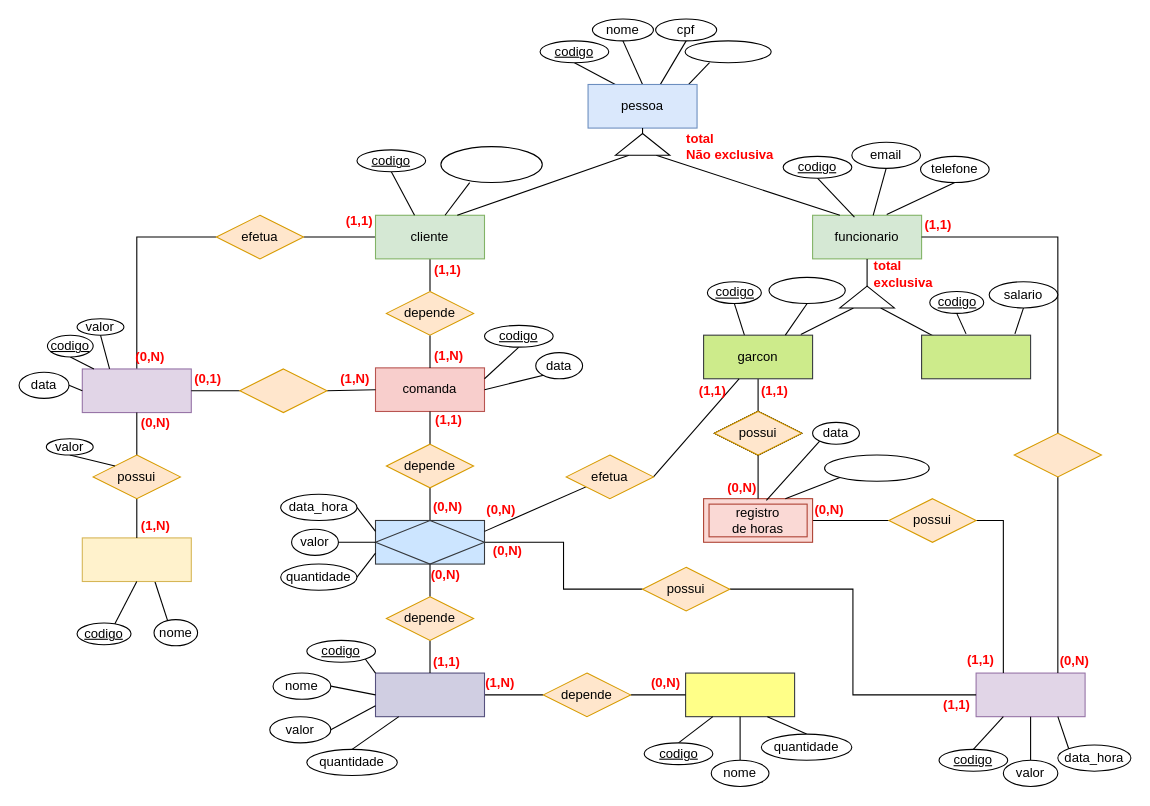
The diagram is 1150 pixels wide and 806 high, and some of its shapes have lost their labels. The shapes that lost their labels are listed below. From the top down, each one's box as (x1, y1, x2, y2) in pixels, then its label:
(684, 40, 771, 63): data_nasc
(440, 146, 542, 183): data_cadastro
(768, 276, 845, 304): valor_hora
(921, 334, 1031, 379): servicos gerais
(81, 368, 191, 413): pagamento
(239, 368, 327, 413): refere-se
(823, 454, 929, 481): numero_horas
(1013, 432, 1101, 477): pertence
(81, 537, 191, 582): forma de pagamento
(374, 519, 485, 564): registro
(374, 672, 485, 717): produtos
(685, 672, 795, 717): ingredientes
(975, 672, 1085, 717): pagamento funcionario
